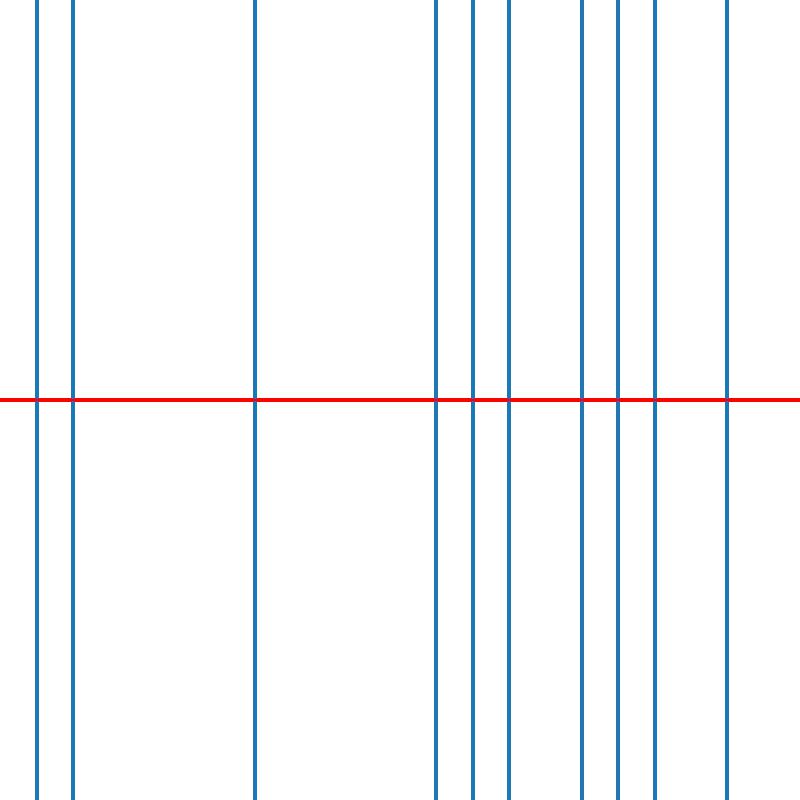root: (250, 396, 258, 404), (432, 396, 440, 404), (650, 396, 658, 404), (32, 396, 40, 404), (469, 396, 476, 404), (505, 396, 512, 404), (69, 396, 76, 404), (578, 396, 585, 404), (723, 396, 730, 404), (614, 396, 621, 404)
